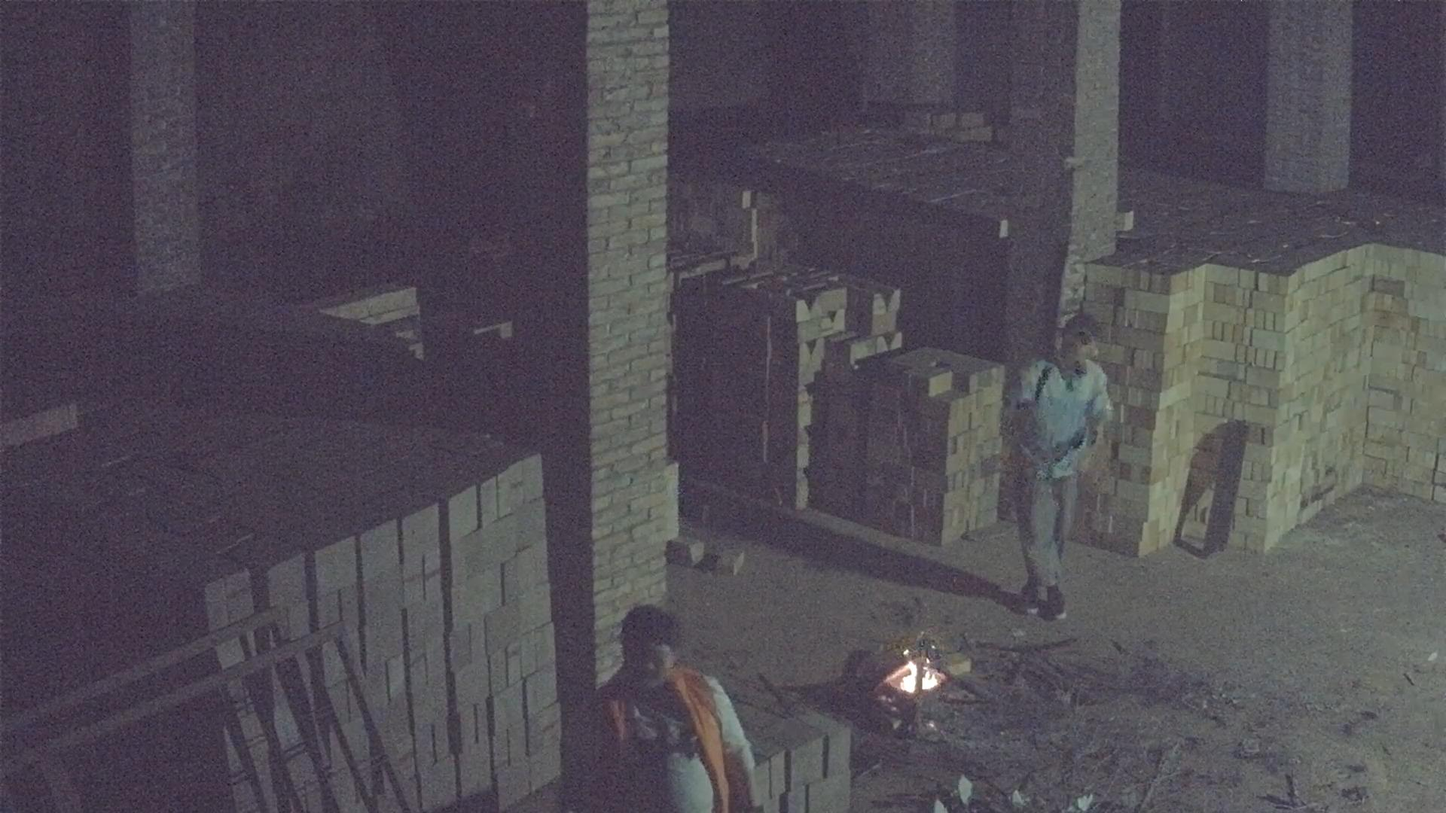fire: (881, 645, 947, 696), (898, 662, 917, 693)
